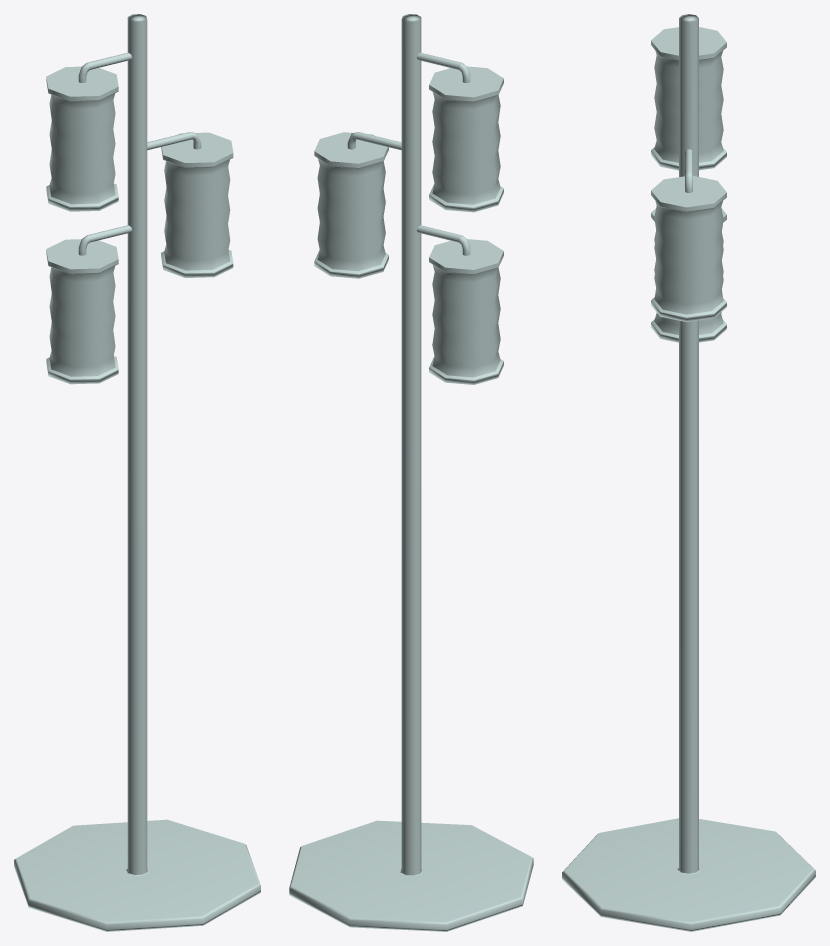
File: LivingRoomLamp.FBX
3 views of the same model, side by side, from view 1: azimuth 30°, elevation 25°; view 2: azimuth 150°, elevation 25°; view 3: azimuth 270°, elevation 25° (orthographic).
Parts seen in each view (by area): view 1: LivingRoomLamp; view 2: LivingRoomLamp; view 3: LivingRoomLamp.
Part boxes in pixels (<box>): LivingRoomLamp: <box>14,14,260,931</box>; LivingRoomLamp: <box>289,14,533,931</box>; LivingRoomLamp: <box>562,14,815,931</box>.
Size of the model in its own units: 152 by 152 by 570.
